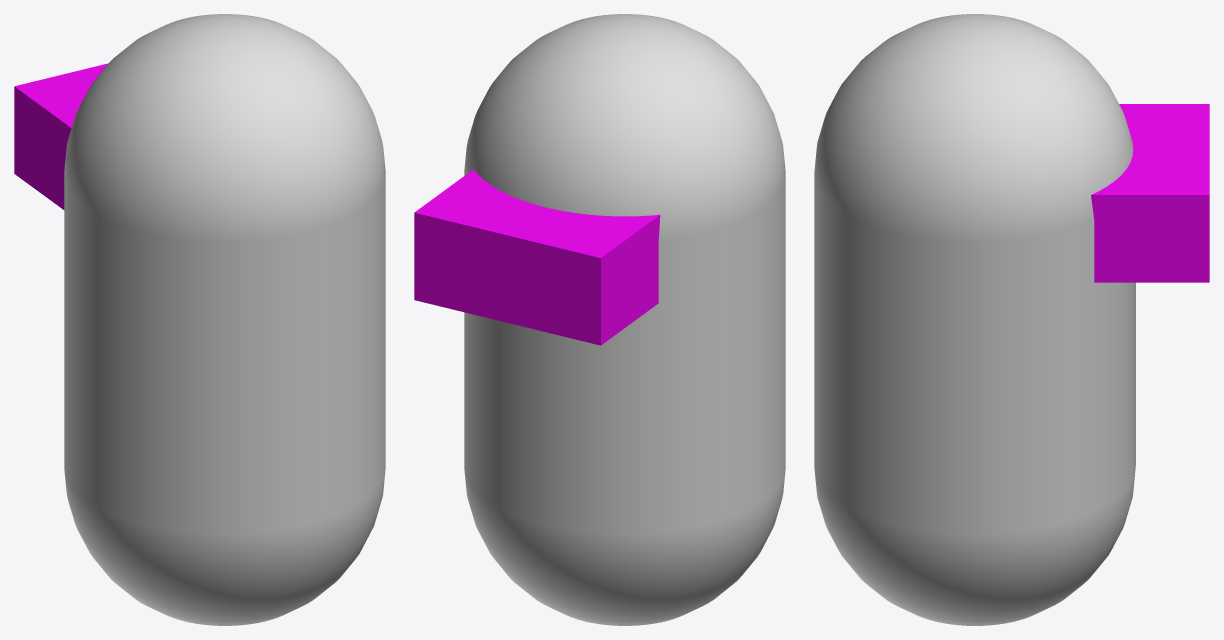
The model's file is player_export.gltf.
3 renders of one model, left to right at view 1: azimuth 30°, elevation 25°; view 2: azimuth 150°, elevation 25°; view 3: azimuth 270°, elevation 25°, orthographic.
Parts seen in each view (by area): view 1: MeshInstance3D, MeshInstance3D2; view 2: MeshInstance3D, MeshInstance3D2; view 3: MeshInstance3D, MeshInstance3D2.
Part boxes in pixels (x1,y1,x2,y2): MeshInstance3D: (64, 14, 385, 625); MeshInstance3D2: (14, 63, 108, 209); MeshInstance3D: (464, 14, 785, 625); MeshInstance3D2: (414, 169, 660, 345); MeshInstance3D: (814, 14, 1135, 625); MeshInstance3D2: (1091, 104, 1209, 282).
Bounding box in the file's own units: 1 × 2 × 1.23.
